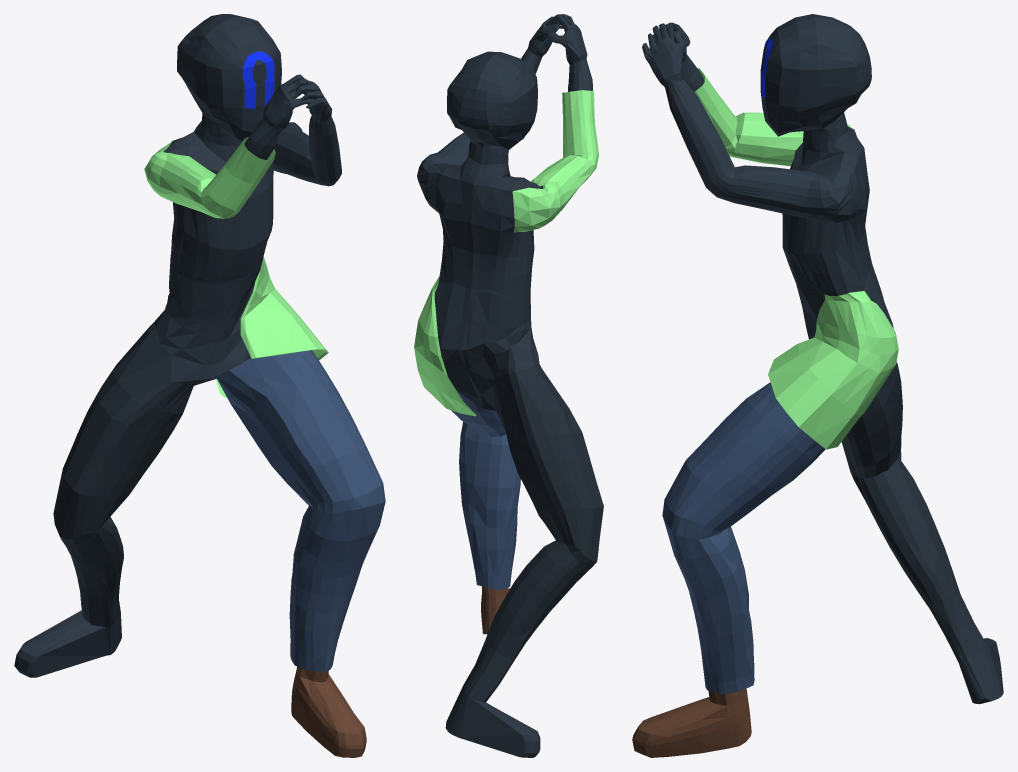
The model's file is Mar_Attack_000018.obj.
3 views of the same model, side by side, from view 1: azimuth 30°, elevation 25°; view 2: azimuth 150°, elevation 25°; view 3: azimuth 270°, elevation 25° (orthographic). The views are drawn at different scales.
Visible parts, largest first — view 1: Cube.000_Cube.001; view 2: Cube.000_Cube.001; view 3: Cube.000_Cube.001.
Boxes of the visible parts, box(x1,y1,x2,y2) form: Cube.000_Cube.001: box(14, 14, 385, 757); Cube.000_Cube.001: box(414, 14, 603, 757); Cube.000_Cube.001: box(632, 14, 1003, 757).
Bounding box in the file's own units: 1.27 × 3.59 × 1.69.
